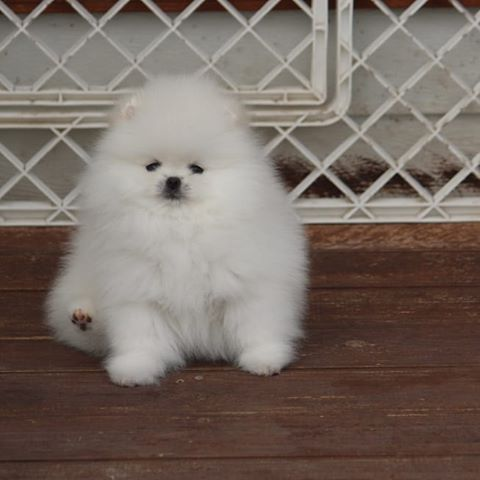pomeranian: (47, 62, 330, 393)
